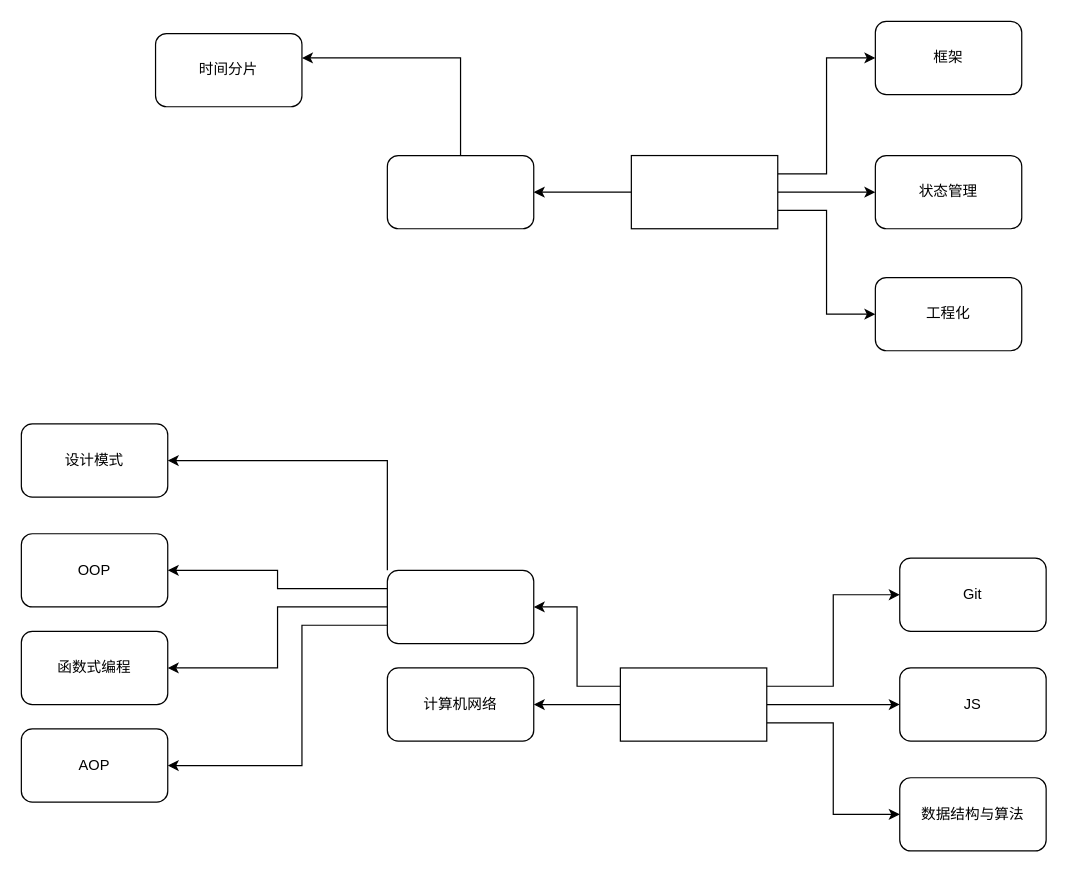
Image size: 1068x872. Some labels were removed from this diagram. The centre of each missing label's shape, as x and y in pixels:
基础知识: the point at 693,704
应用优化: the point at 460,191
应用知识: the point at 704,191
编程范式: the point at 460,606
